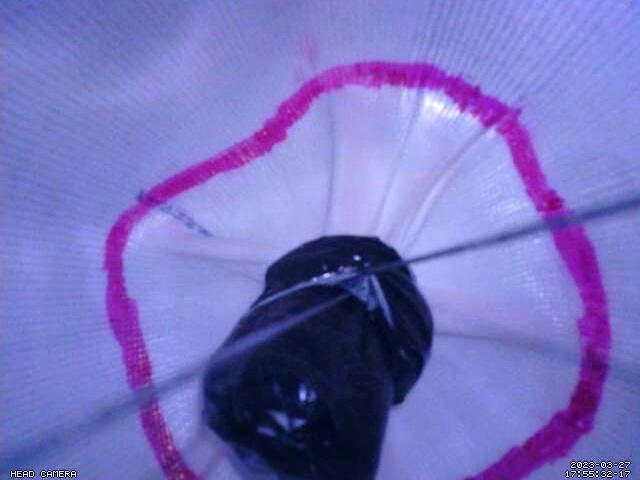red-circle: (102, 59, 612, 480)
